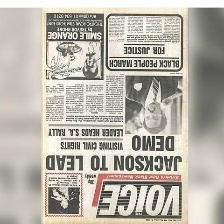news_paper: (40, 6, 188, 223)
